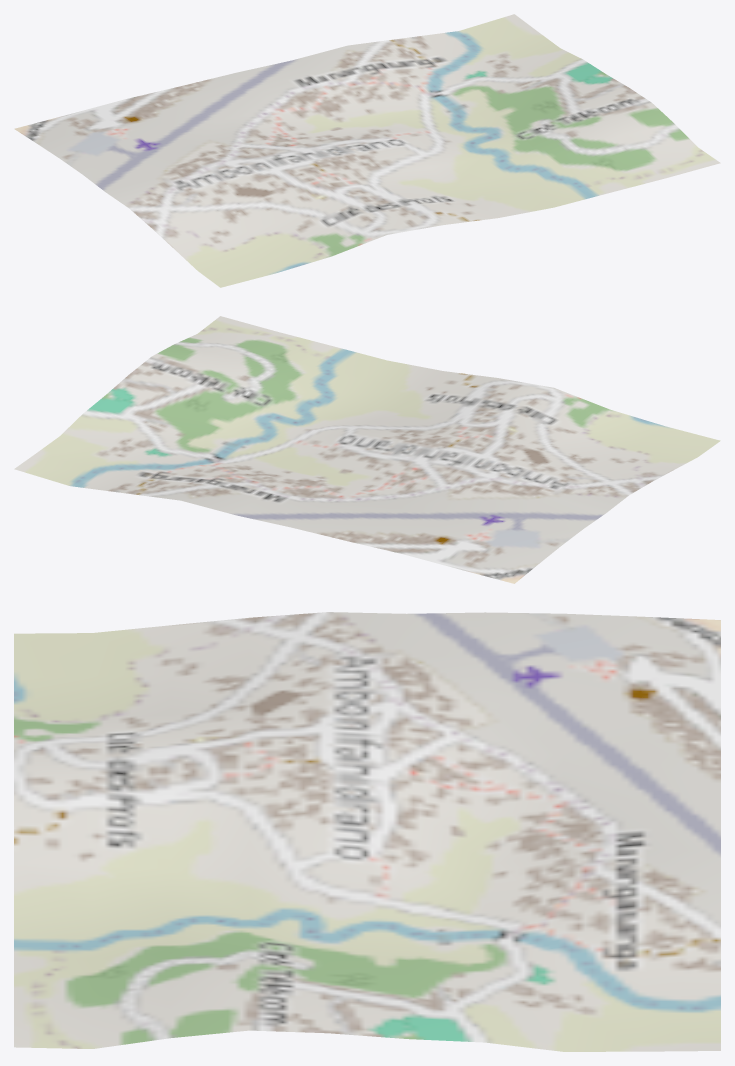
File: ground_5_1.glb
3 renders of one model, top to bottom at view 1: azimuth 30°, elevation 25°; view 2: azimuth 150°, elevation 25°; view 3: azimuth 270°, elevation 25°, orthographic. The views are drawn at different scales.
Parts seen in each view (by area): view 1: ground_5_1; view 2: ground_5_1; view 3: ground_5_1.
Boxes of the visible parts, box(x1,y1,x2,y2) form: ground_5_1: box(14, 14, 720, 287); ground_5_1: box(14, 316, 720, 583); ground_5_1: box(14, 612, 720, 1051).
Bounding box in the file's own units: 1204 × 42.8 × 860.
Materials: 1 (1 with a texture image).
